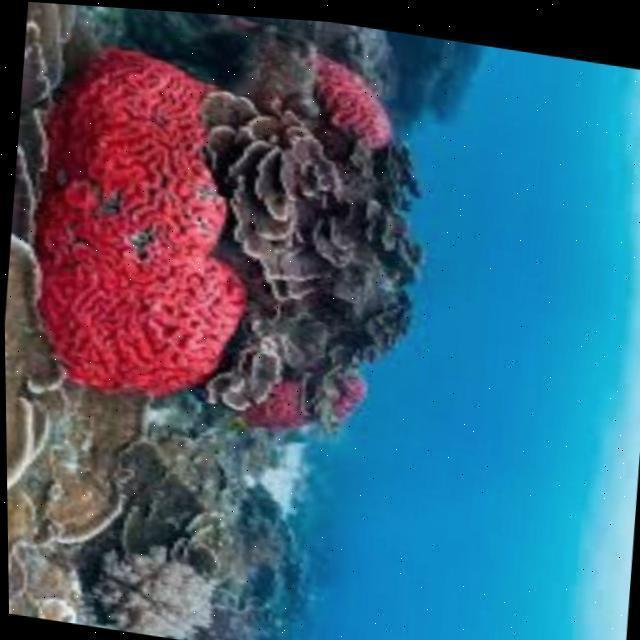Dead Coral: (211, 135, 374, 388)
Healthy Coral: (27, 12, 221, 448), (305, 53, 405, 144)
